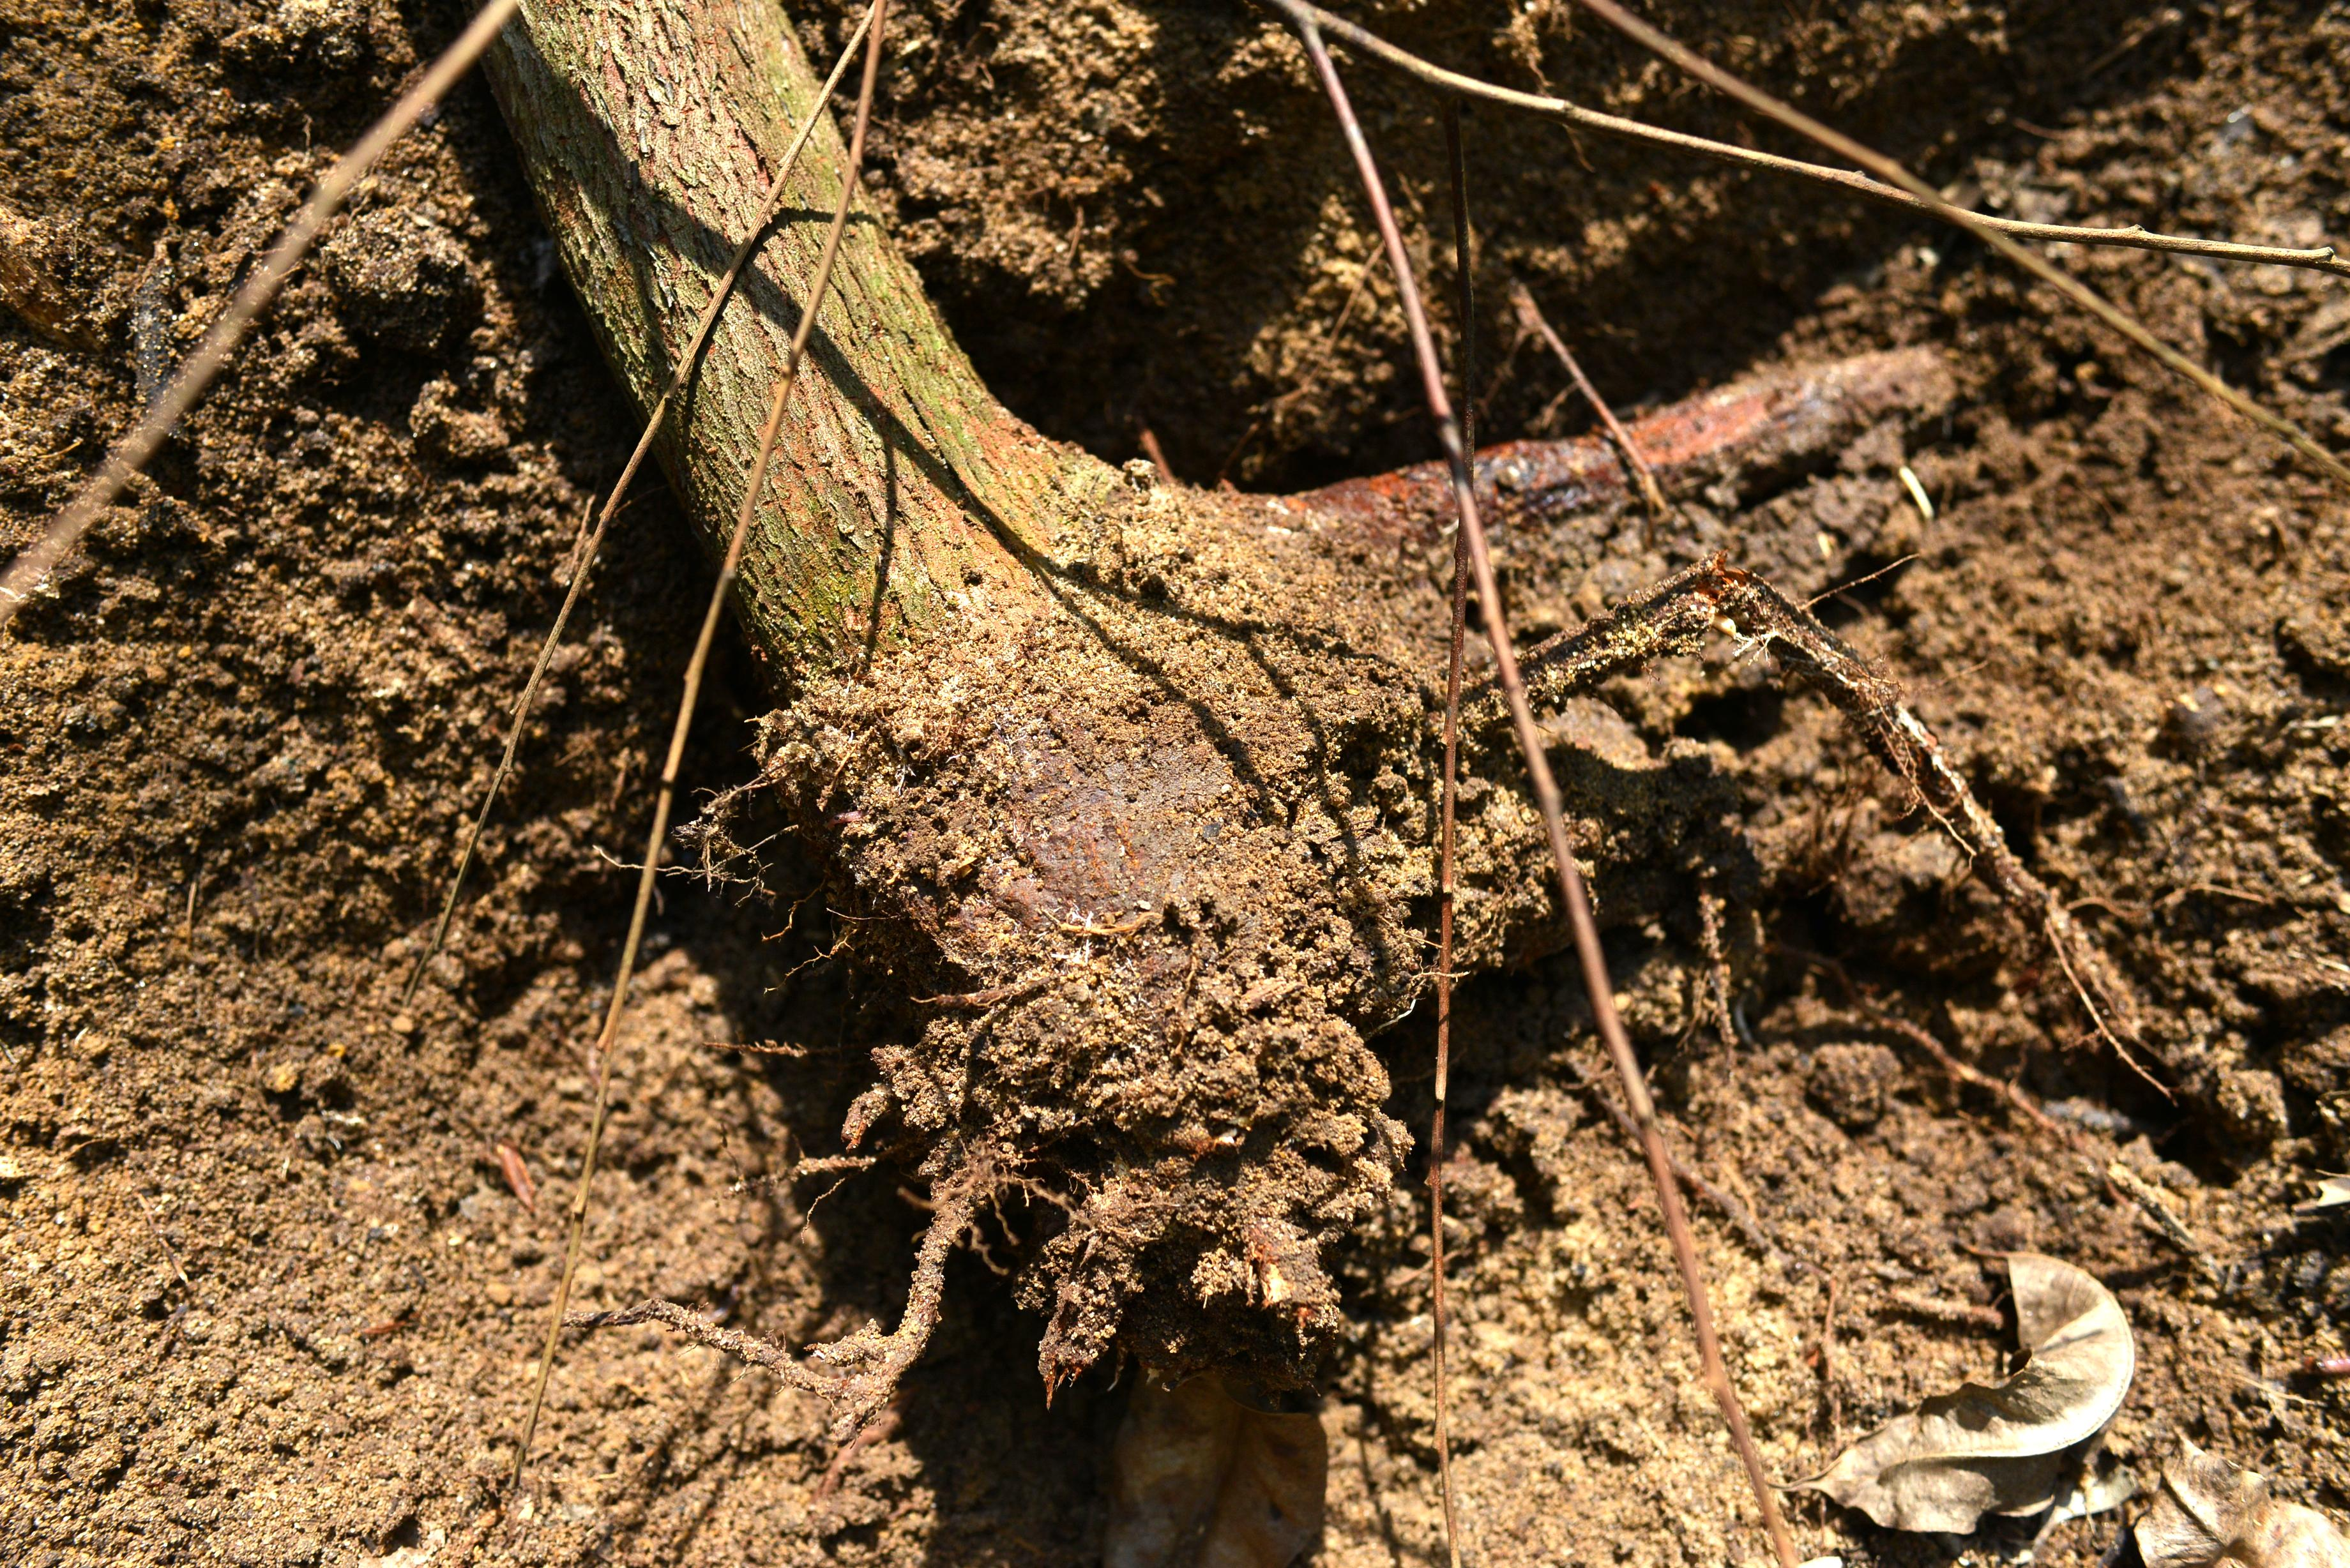Red Root Rot - Secretion: (1262, 359, 1923, 577)
